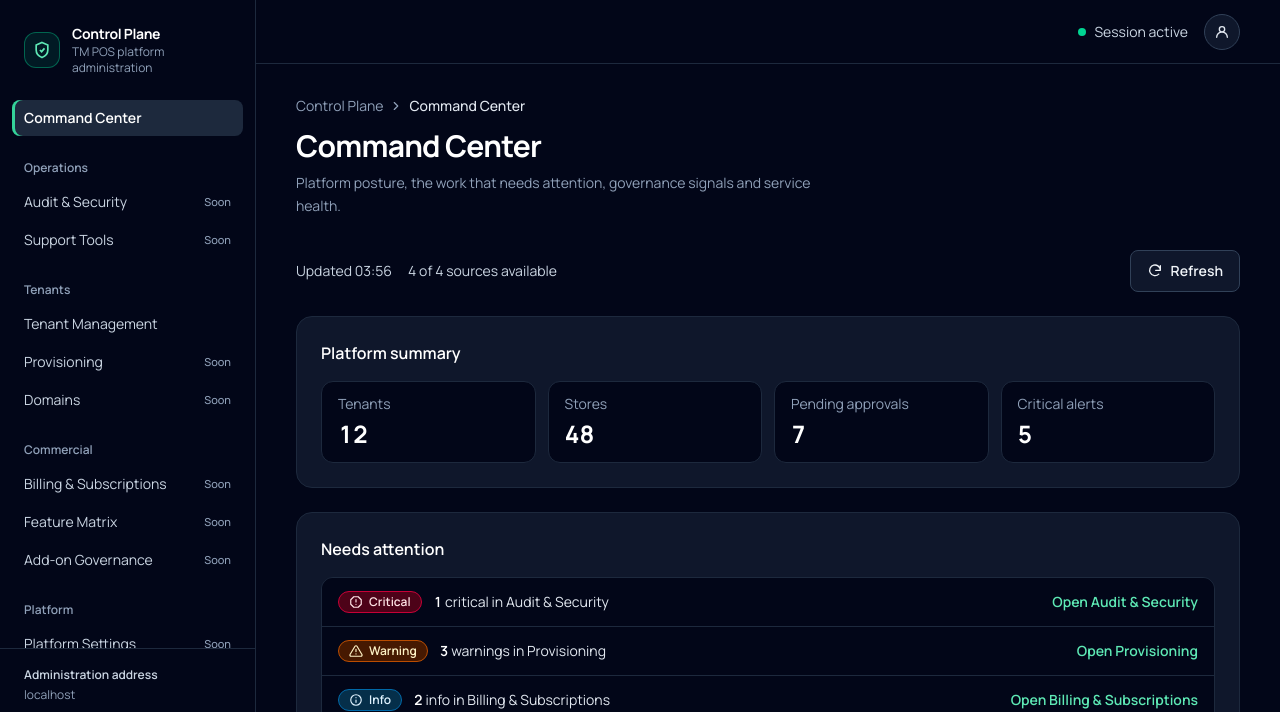
Test: Command Center › ends the page in sign-in with the expiry notice when a refresh answers 401
This screenshot has width=1280, height=712.
Check: the element "Platform summary" is shown, box [296,316,1240,488]
Click the button "Refresh".
click(1185, 270)  # box [1130,250,1240,292]
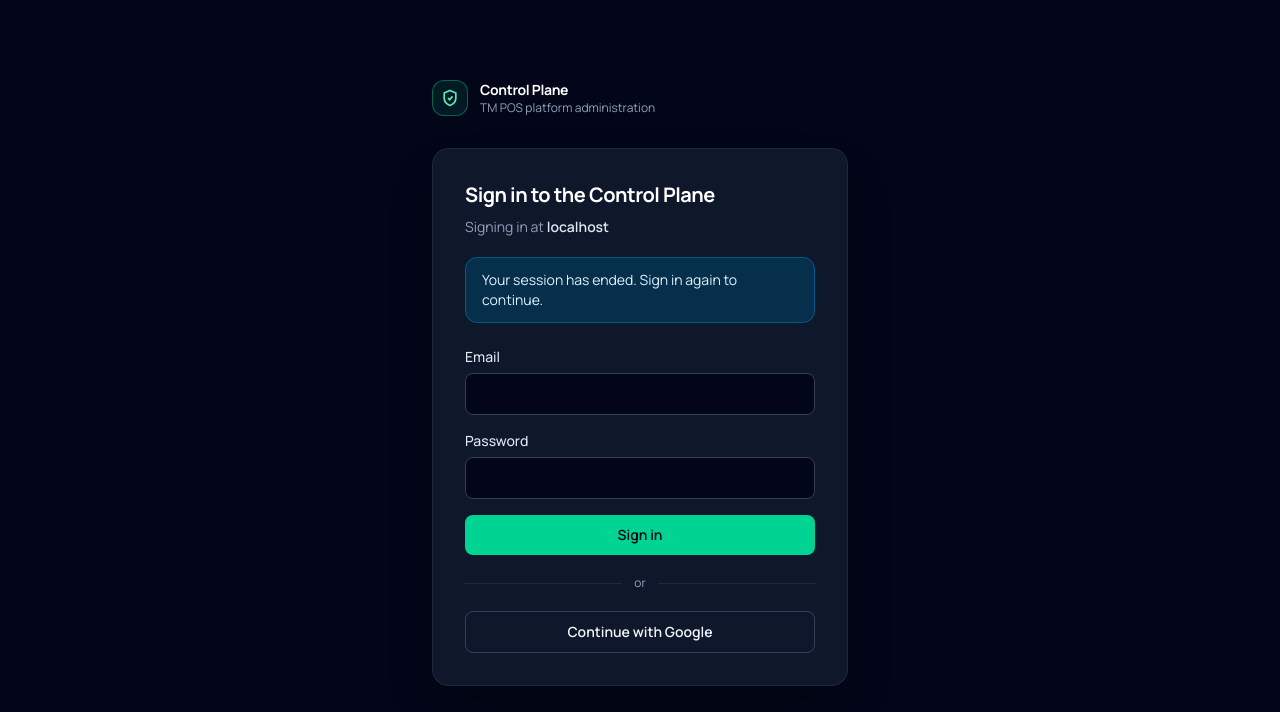
Check: the text "Your session has ended. Sign in again to continue." is shown, box [482,270,737,309]
Check: the heading "Sign in to the Control Plane" is shown, box [465,181,715,208]
